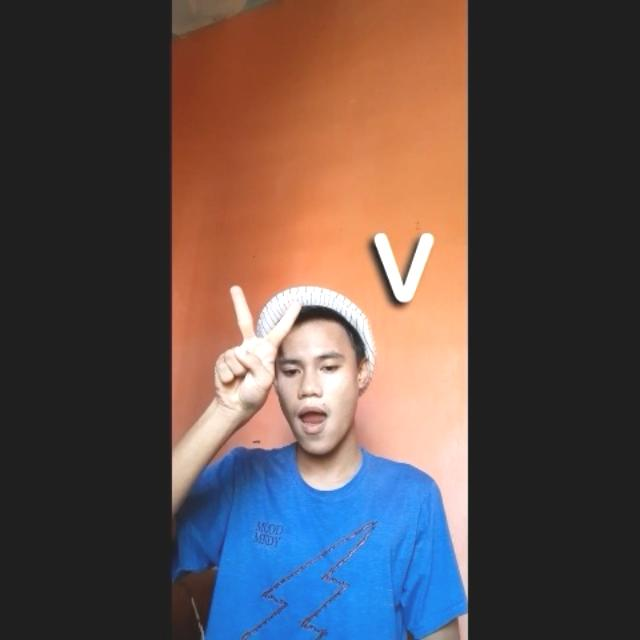V: (183, 282, 304, 421)
